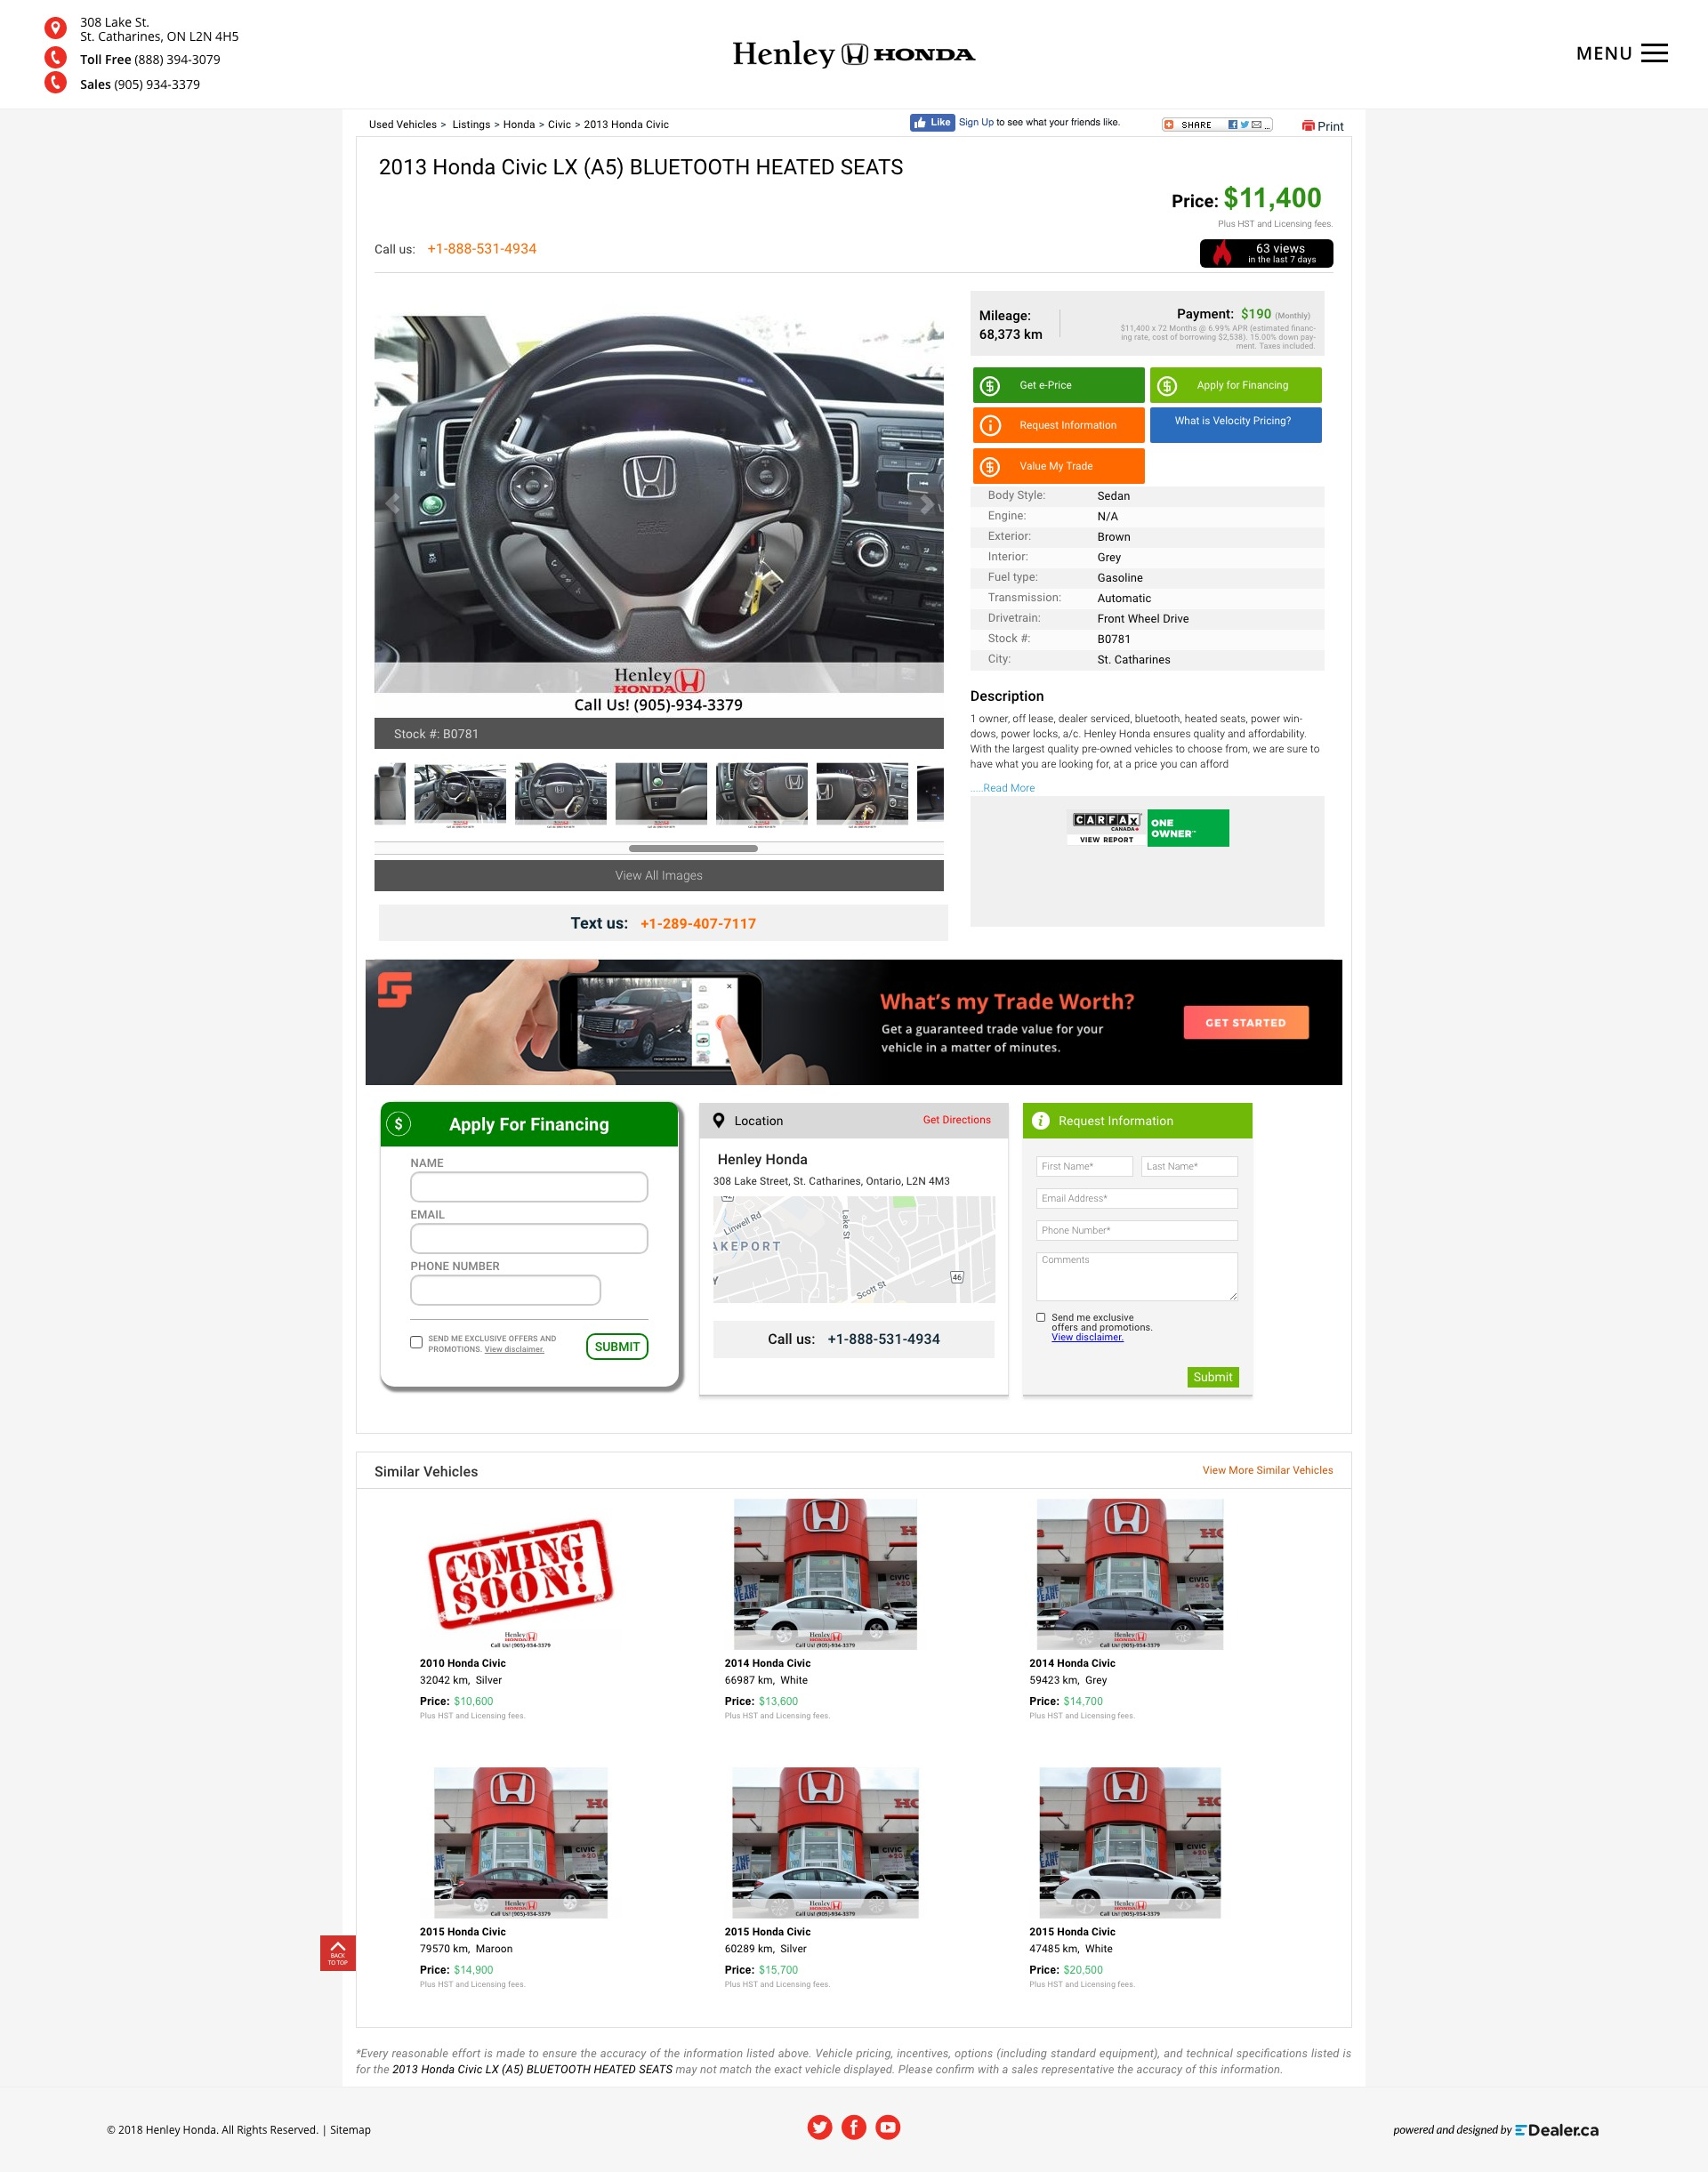car: (908, 488, 945, 522)
